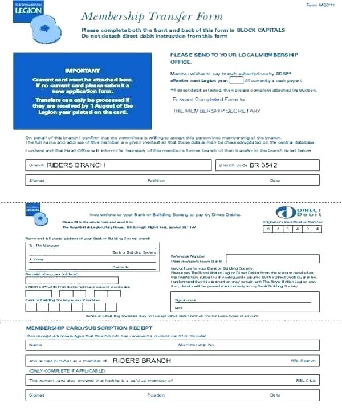textbox: (23, 386, 321, 402), (24, 173, 321, 187), (169, 290, 321, 313), (145, 387, 268, 402), (24, 387, 146, 402), (146, 173, 269, 186), (24, 174, 145, 187), (224, 252, 321, 264), (269, 173, 320, 187), (268, 389, 321, 402), (58, 288, 75, 299), (105, 288, 122, 299), (35, 301, 50, 313), (47, 301, 62, 313), (69, 301, 84, 313), (81, 301, 96, 313), (92, 301, 107, 313), (228, 76, 247, 85), (58, 301, 72, 313), (104, 301, 118, 313), (25, 301, 39, 312), (25, 288, 40, 298), (93, 288, 108, 298), (71, 289, 87, 298), (38, 288, 52, 298)
textline: (174, 293, 313, 304), (27, 256, 156, 264), (28, 263, 111, 270), (112, 264, 157, 271)
